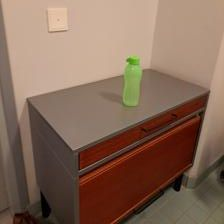bottle: (123, 53, 145, 107)
